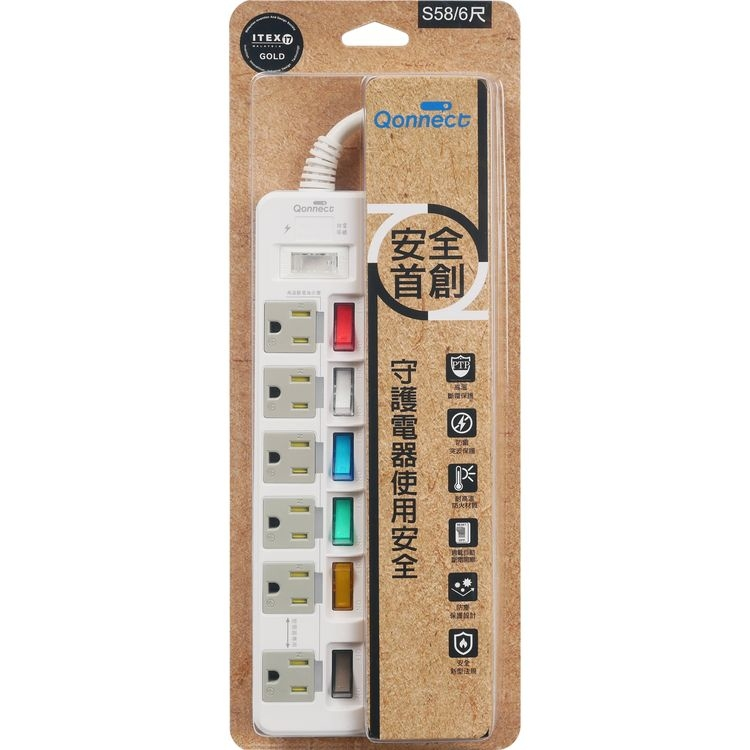socket: (256, 140, 369, 739)
